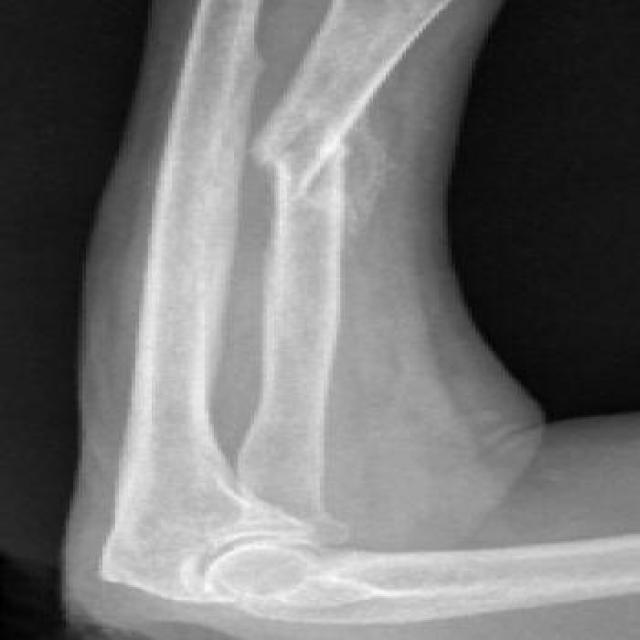fracture: (255, 107, 381, 213)
